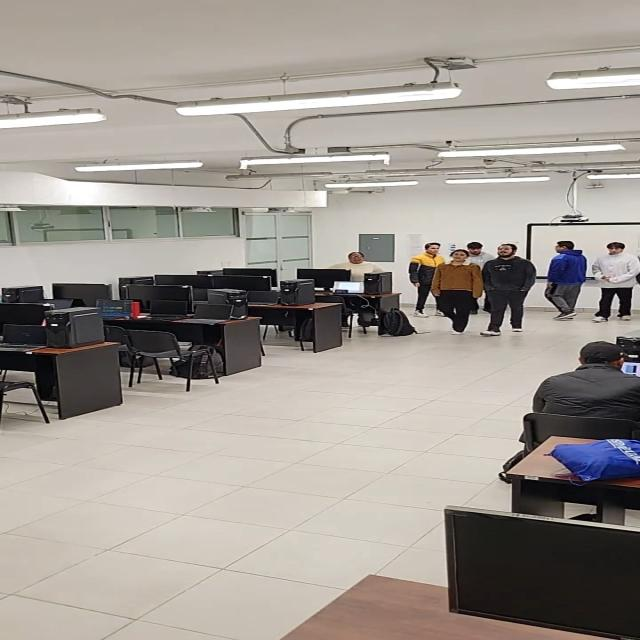Persona: (438, 250, 477, 334), (489, 241, 523, 337), (595, 242, 632, 321), (550, 238, 586, 316), (414, 243, 442, 304), (336, 251, 384, 271), (466, 239, 492, 263)
